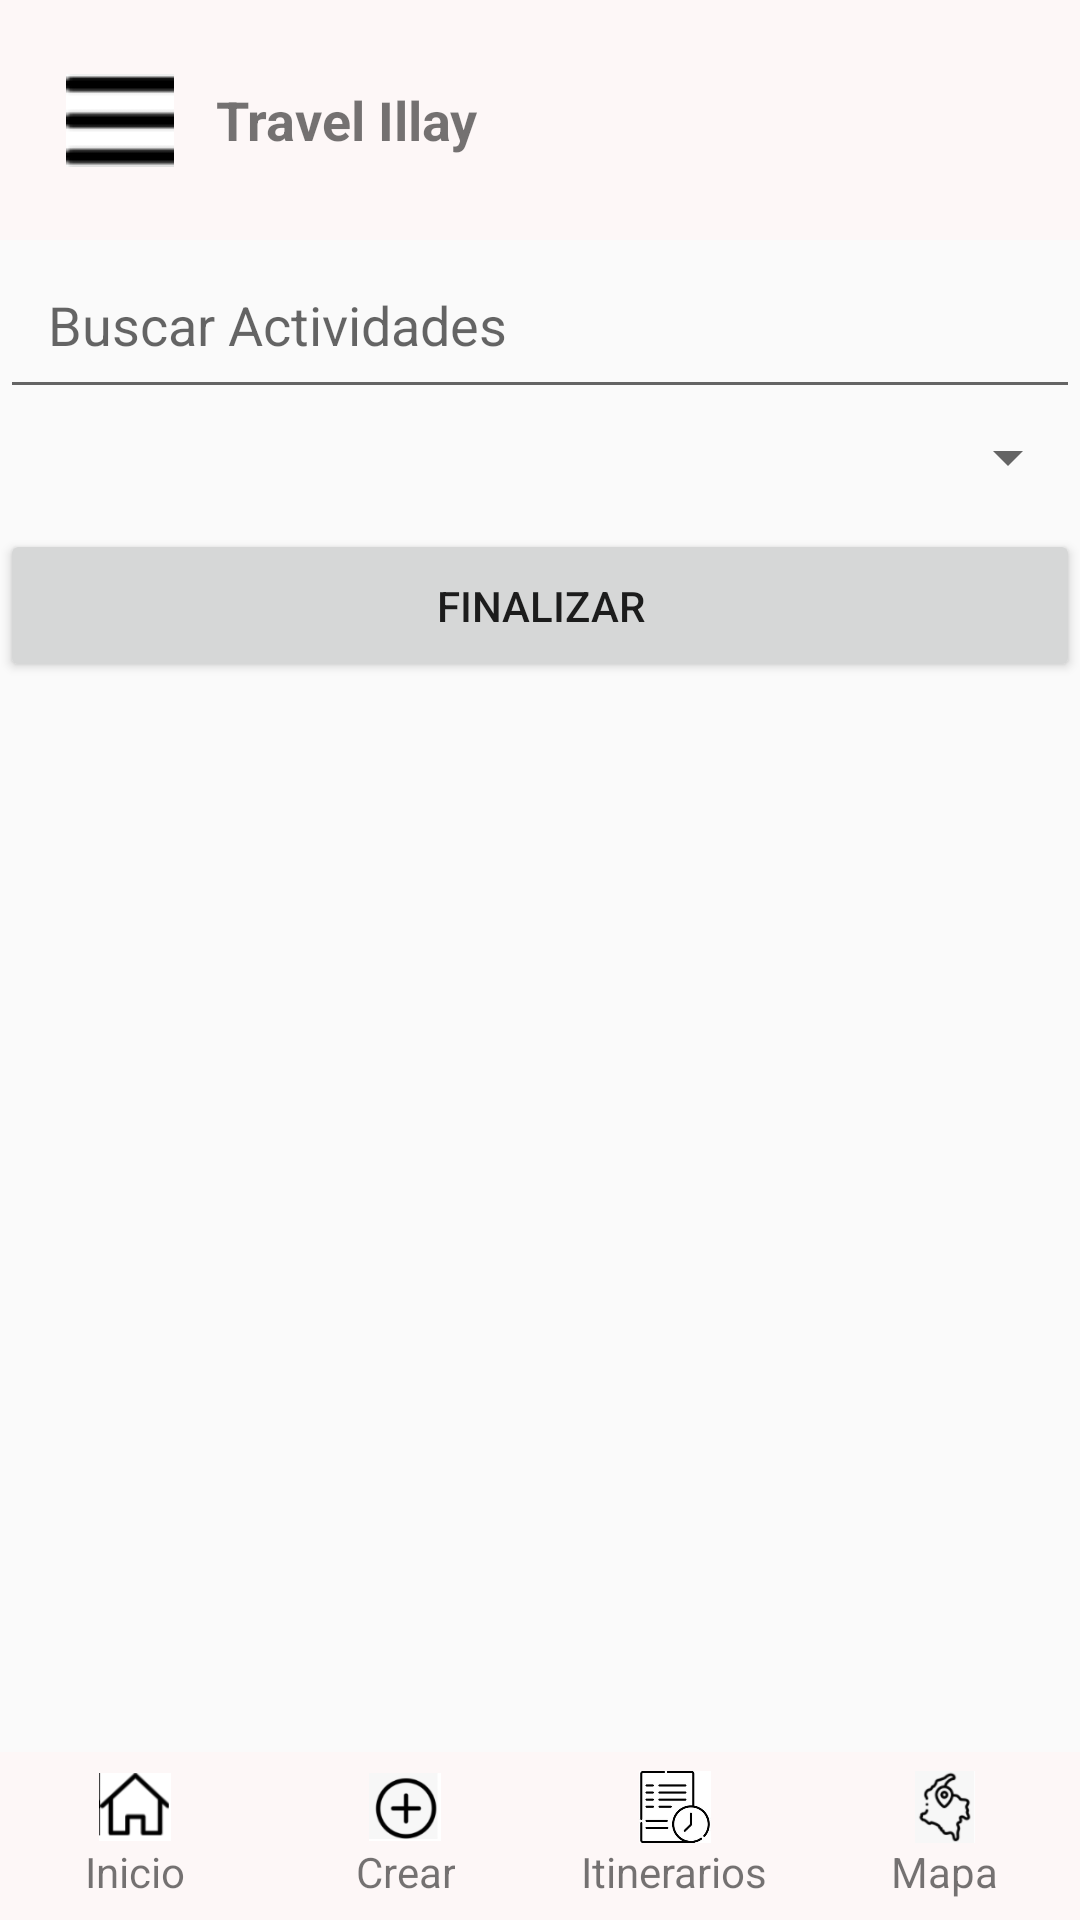

Icons on this 1080w x 1920h Android screen, each with its box as (x1, y1, x2, y2):
Menú principal: (66, 76, 174, 167)
